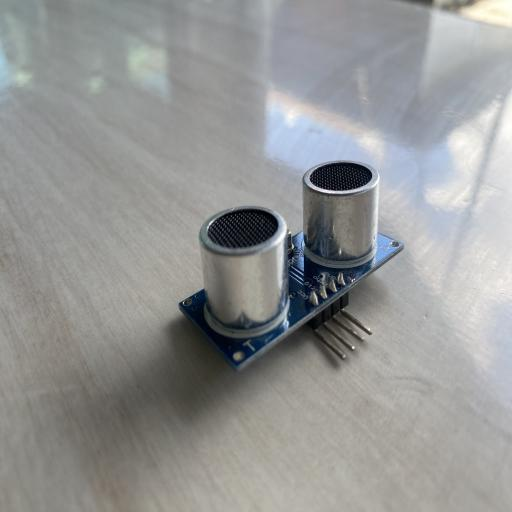Ultrasonic Sensor: (177, 159, 405, 373)
